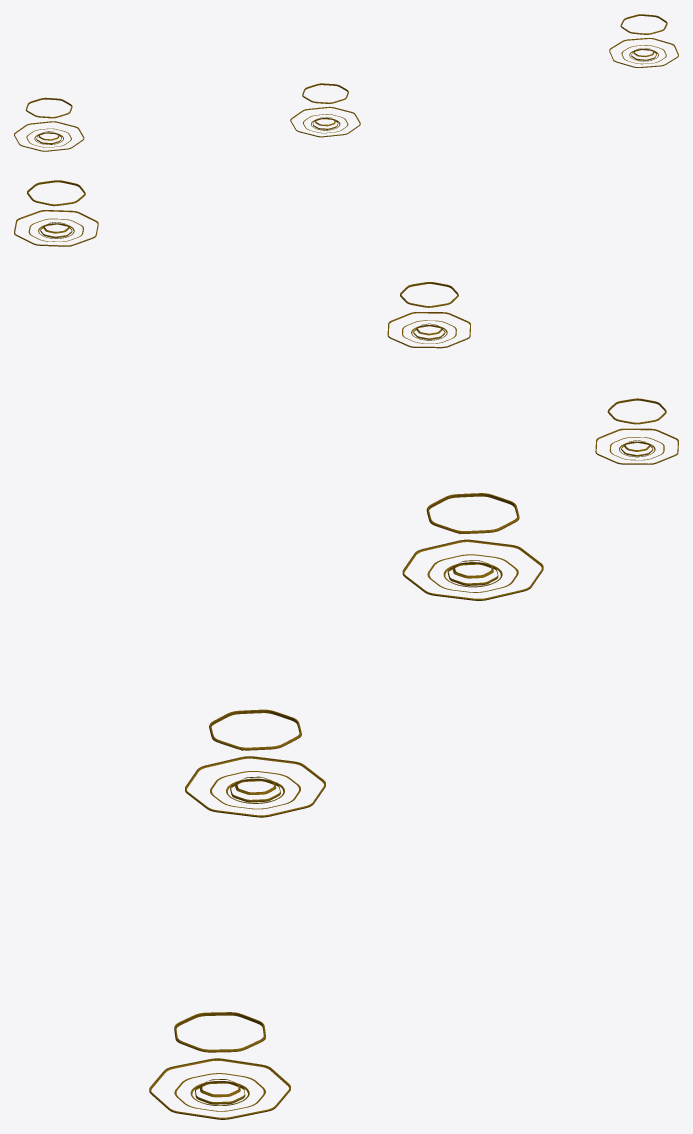
The picture shows the model from 3 angles, top to bottom: view 1: azimuth 30°, elevation 25°; view 2: azimuth 150°, elevation 25°; view 3: azimuth 270°, elevation 25°; orthographic projection. The views are drawn at different scales.
Parts seen in each view (by area): view 1: Tea_set_metal_rim_breakfast_room_Interior.008; view 2: Tea_set_metal_rim_breakfast_room_Interior.008; view 3: Tea_set_metal_rim_breakfast_room_Interior.008.
Part boxes in pixels (box(x1,y1,x2,y2)): Tea_set_metal_rim_breakfast_room_Interior.008: box(14, 14, 678, 151); Tea_set_metal_rim_breakfast_room_Interior.008: box(14, 180, 678, 464); Tea_set_metal_rim_breakfast_room_Interior.008: box(149, 493, 543, 1119).
Bounding box in the file's own units: 509 × 26 × 146.
